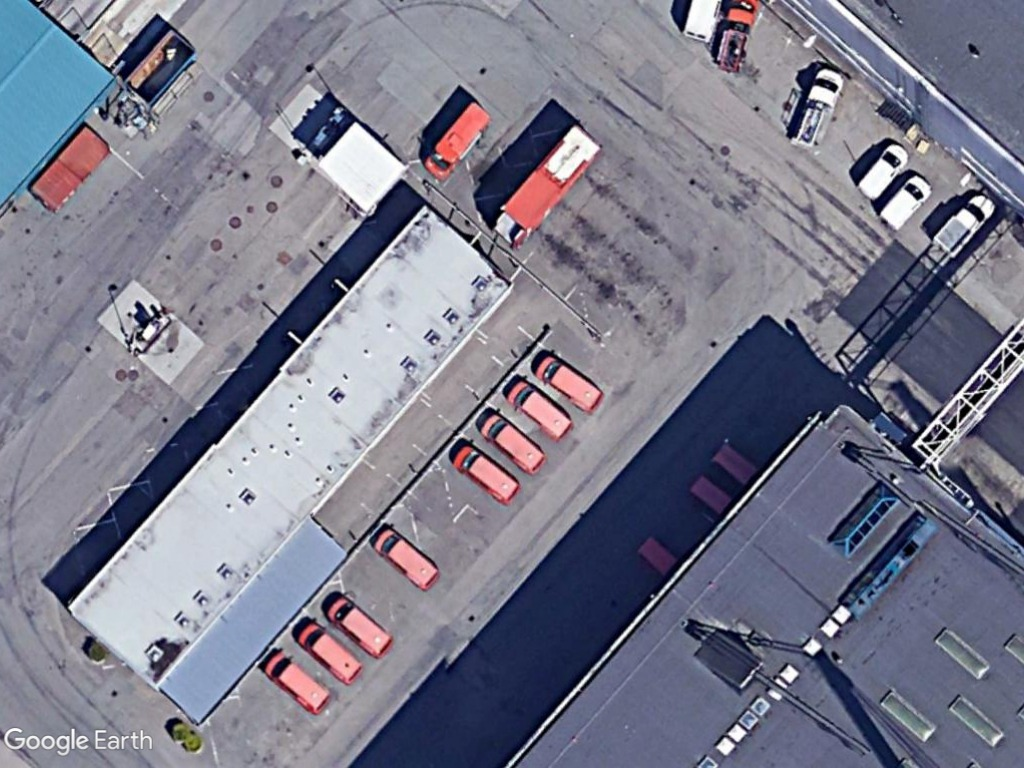other: (785, 61, 847, 157), (927, 186, 996, 265)
truck: (489, 117, 605, 253)
van: (417, 96, 491, 184), (367, 520, 448, 597), (447, 435, 530, 508), (258, 644, 338, 717), (479, 402, 550, 484), (318, 588, 397, 661), (501, 373, 579, 445), (294, 616, 371, 687), (530, 349, 608, 418), (870, 166, 935, 234), (850, 136, 910, 204)
